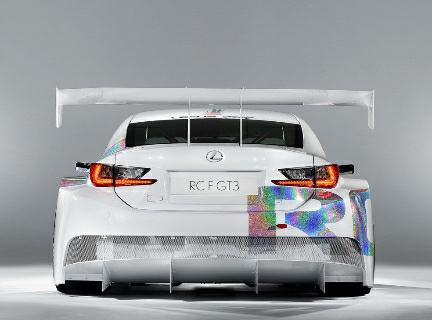雷克萨斯-RCF: (41, 78, 386, 308)
